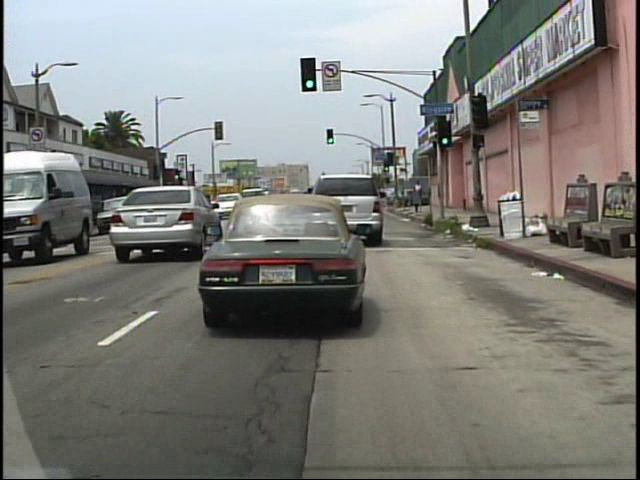person: (414, 181, 426, 209)
